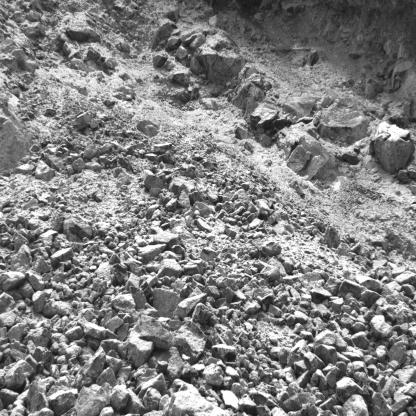stone: (313, 98, 369, 148), (166, 379, 238, 416), (368, 121, 416, 174), (62, 383, 112, 416), (130, 317, 175, 348), (75, 348, 106, 391), (174, 321, 207, 358), (127, 334, 154, 367), (174, 293, 207, 319), (3, 361, 33, 388), (48, 389, 78, 416), (153, 289, 180, 318), (78, 318, 117, 338), (63, 214, 93, 239), (27, 379, 49, 413), (336, 378, 364, 402), (342, 394, 370, 416), (192, 304, 217, 328), (0, 272, 26, 295), (284, 392, 317, 410), (337, 278, 366, 298), (369, 315, 393, 338), (109, 253, 127, 283), (353, 372, 381, 391), (137, 244, 166, 262), (23, 329, 52, 347), (211, 344, 237, 364), (153, 231, 179, 251), (203, 363, 224, 387), (156, 258, 182, 277), (321, 363, 340, 389), (314, 345, 338, 365), (50, 247, 74, 267), (111, 293, 136, 312), (111, 384, 130, 409), (95, 366, 117, 387), (382, 376, 403, 398), (142, 387, 162, 410), (372, 393, 392, 416), (313, 330, 337, 349), (304, 350, 324, 372), (25, 270, 45, 291), (220, 388, 239, 410), (389, 341, 406, 365), (238, 395, 258, 415), (35, 160, 54, 181), (310, 287, 334, 303), (324, 226, 340, 249), (144, 174, 168, 189), (310, 369, 327, 390), (183, 259, 204, 276), (253, 288, 274, 305), (7, 323, 25, 342), (396, 270, 416, 287), (361, 291, 381, 308), (261, 241, 282, 257), (286, 311, 308, 326), (105, 316, 124, 333), (76, 110, 92, 130), (0, 311, 17, 329), (34, 256, 51, 274), (172, 70, 189, 87), (351, 332, 369, 348), (140, 281, 153, 303), (334, 332, 348, 352), (328, 297, 344, 314), (374, 345, 389, 363), (391, 397, 409, 412), (157, 151, 176, 165), (33, 291, 45, 313), (151, 51, 167, 67), (65, 325, 83, 339), (352, 361, 368, 376), (182, 362, 198, 377), (42, 351, 54, 371), (153, 143, 172, 155), (268, 304, 284, 318), (93, 278, 107, 294), (178, 191, 191, 208), (200, 247, 215, 261), (197, 218, 212, 231), (73, 158, 86, 172), (363, 310, 377, 322), (300, 331, 314, 343), (119, 157, 131, 171), (352, 322, 366, 333), (50, 364, 60, 379), (330, 321, 342, 333), (166, 198, 177, 211), (364, 355, 377, 366), (309, 308, 323, 318), (375, 375, 386, 387), (294, 323, 303, 335)
